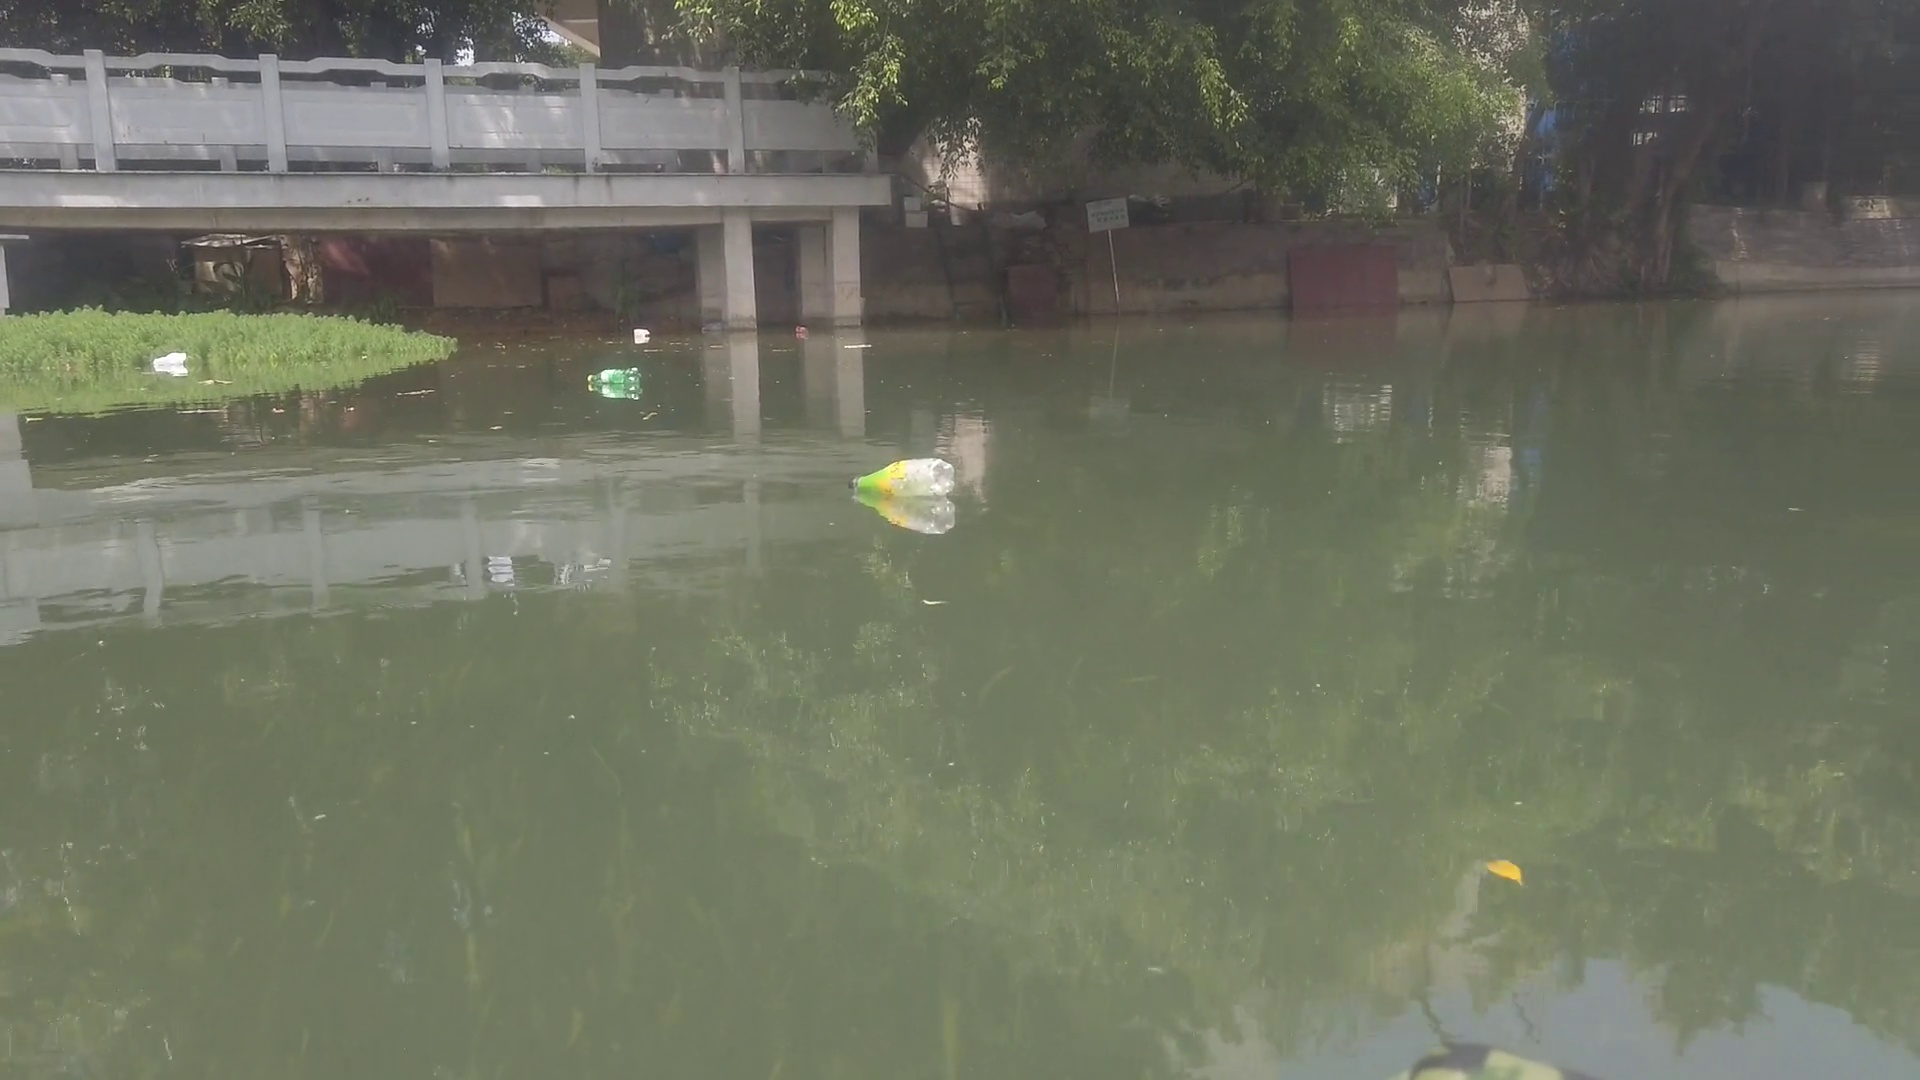bottle: (844, 439, 964, 498), (588, 367, 641, 388), (793, 324, 810, 334)
carton: (629, 324, 651, 340)
paper: (844, 342, 876, 355)
plastic: (152, 351, 186, 371)
